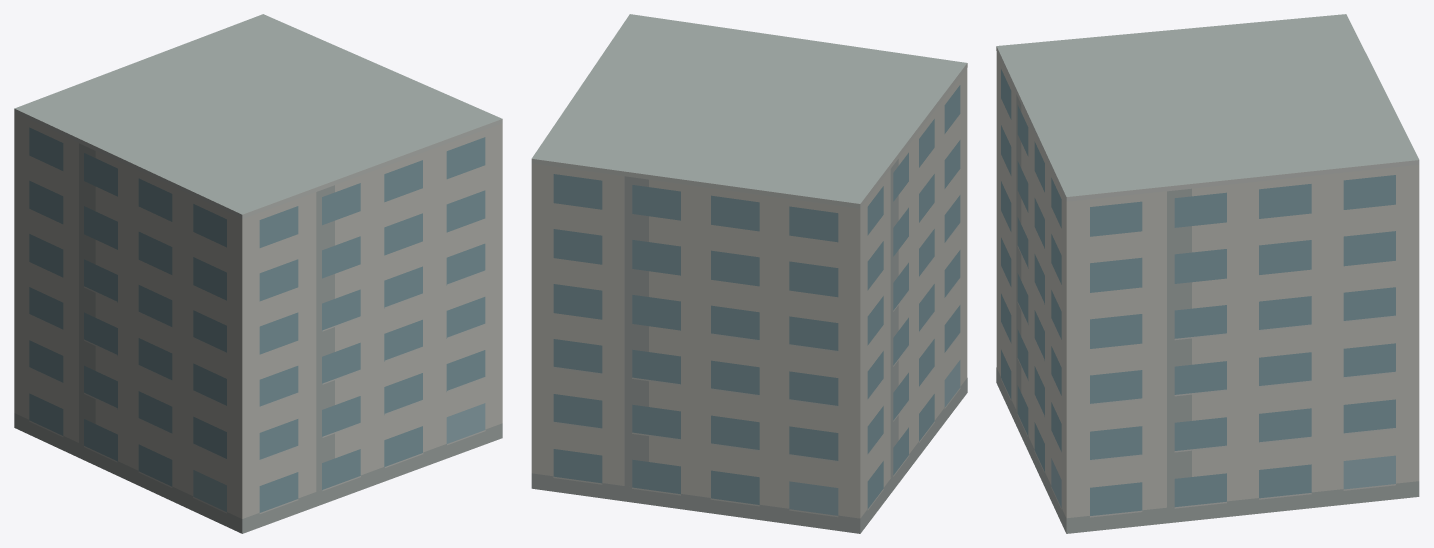
The model's file is survey-upis-32994461.glb.
3 renders of one model, left to right at view 1: azimuth 30°, elevation 25°; view 2: azimuth 150°, elevation 25°; view 3: azimuth 270°, elevation 25°, orthographic. The views are drawn at different scales.
Parts seen in each view (by area): view 1: survey-upis-32994461.tmp; view 2: survey-upis-32994461.tmp; view 3: survey-upis-32994461.tmp.
Part boxes in pixels (x1,y1,x2,y2): survey-upis-32994461.tmp: (14, 14, 502, 533); survey-upis-32994461.tmp: (531, 14, 967, 533); survey-upis-32994461.tmp: (996, 14, 1419, 533).
Size of the model in its own units: 20.01 by 17.15 by 19.53.
